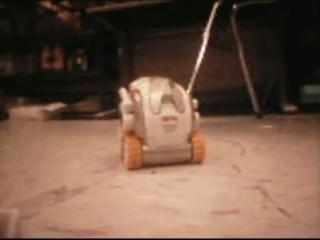cozmo: (116, 75, 206, 169)
